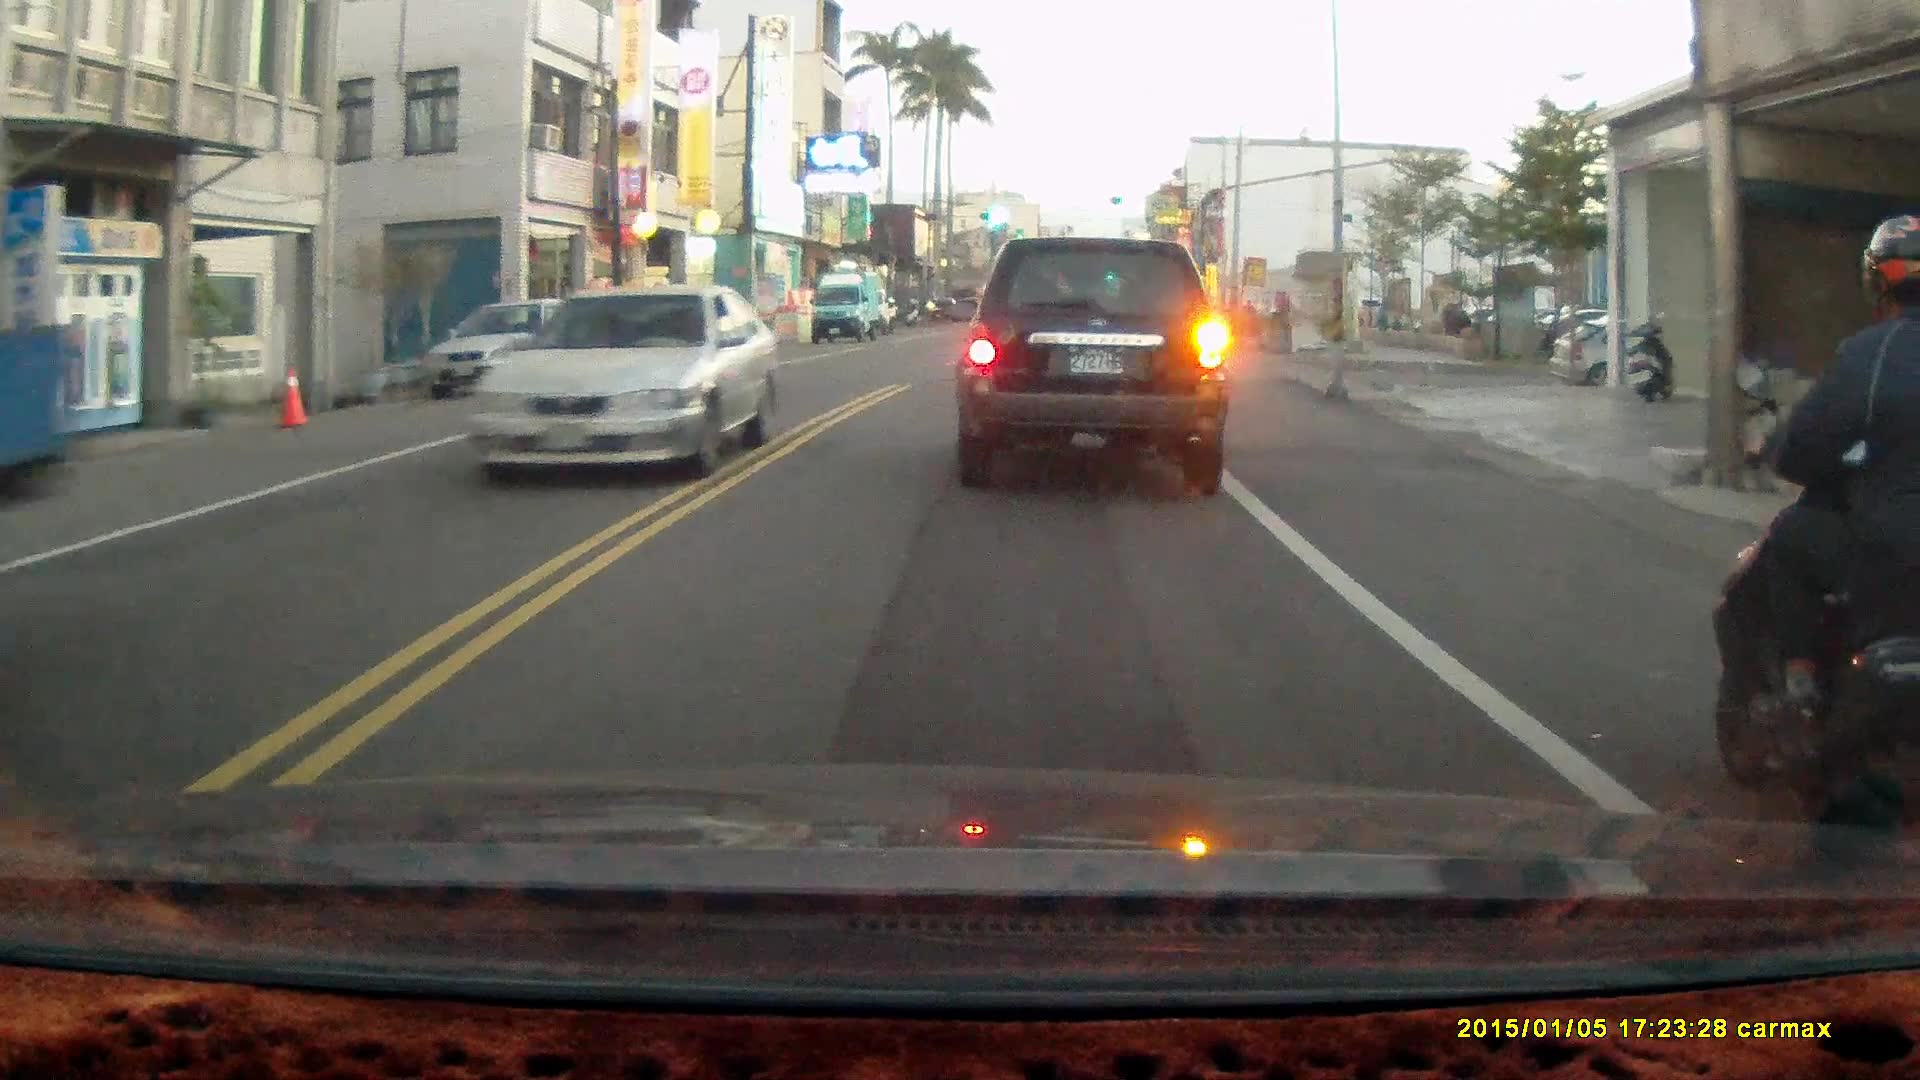rider: (1703, 212, 1919, 887)
vehicle: (956, 237, 1236, 500), (465, 285, 776, 488), (1546, 324, 1753, 399), (813, 271, 889, 345)
